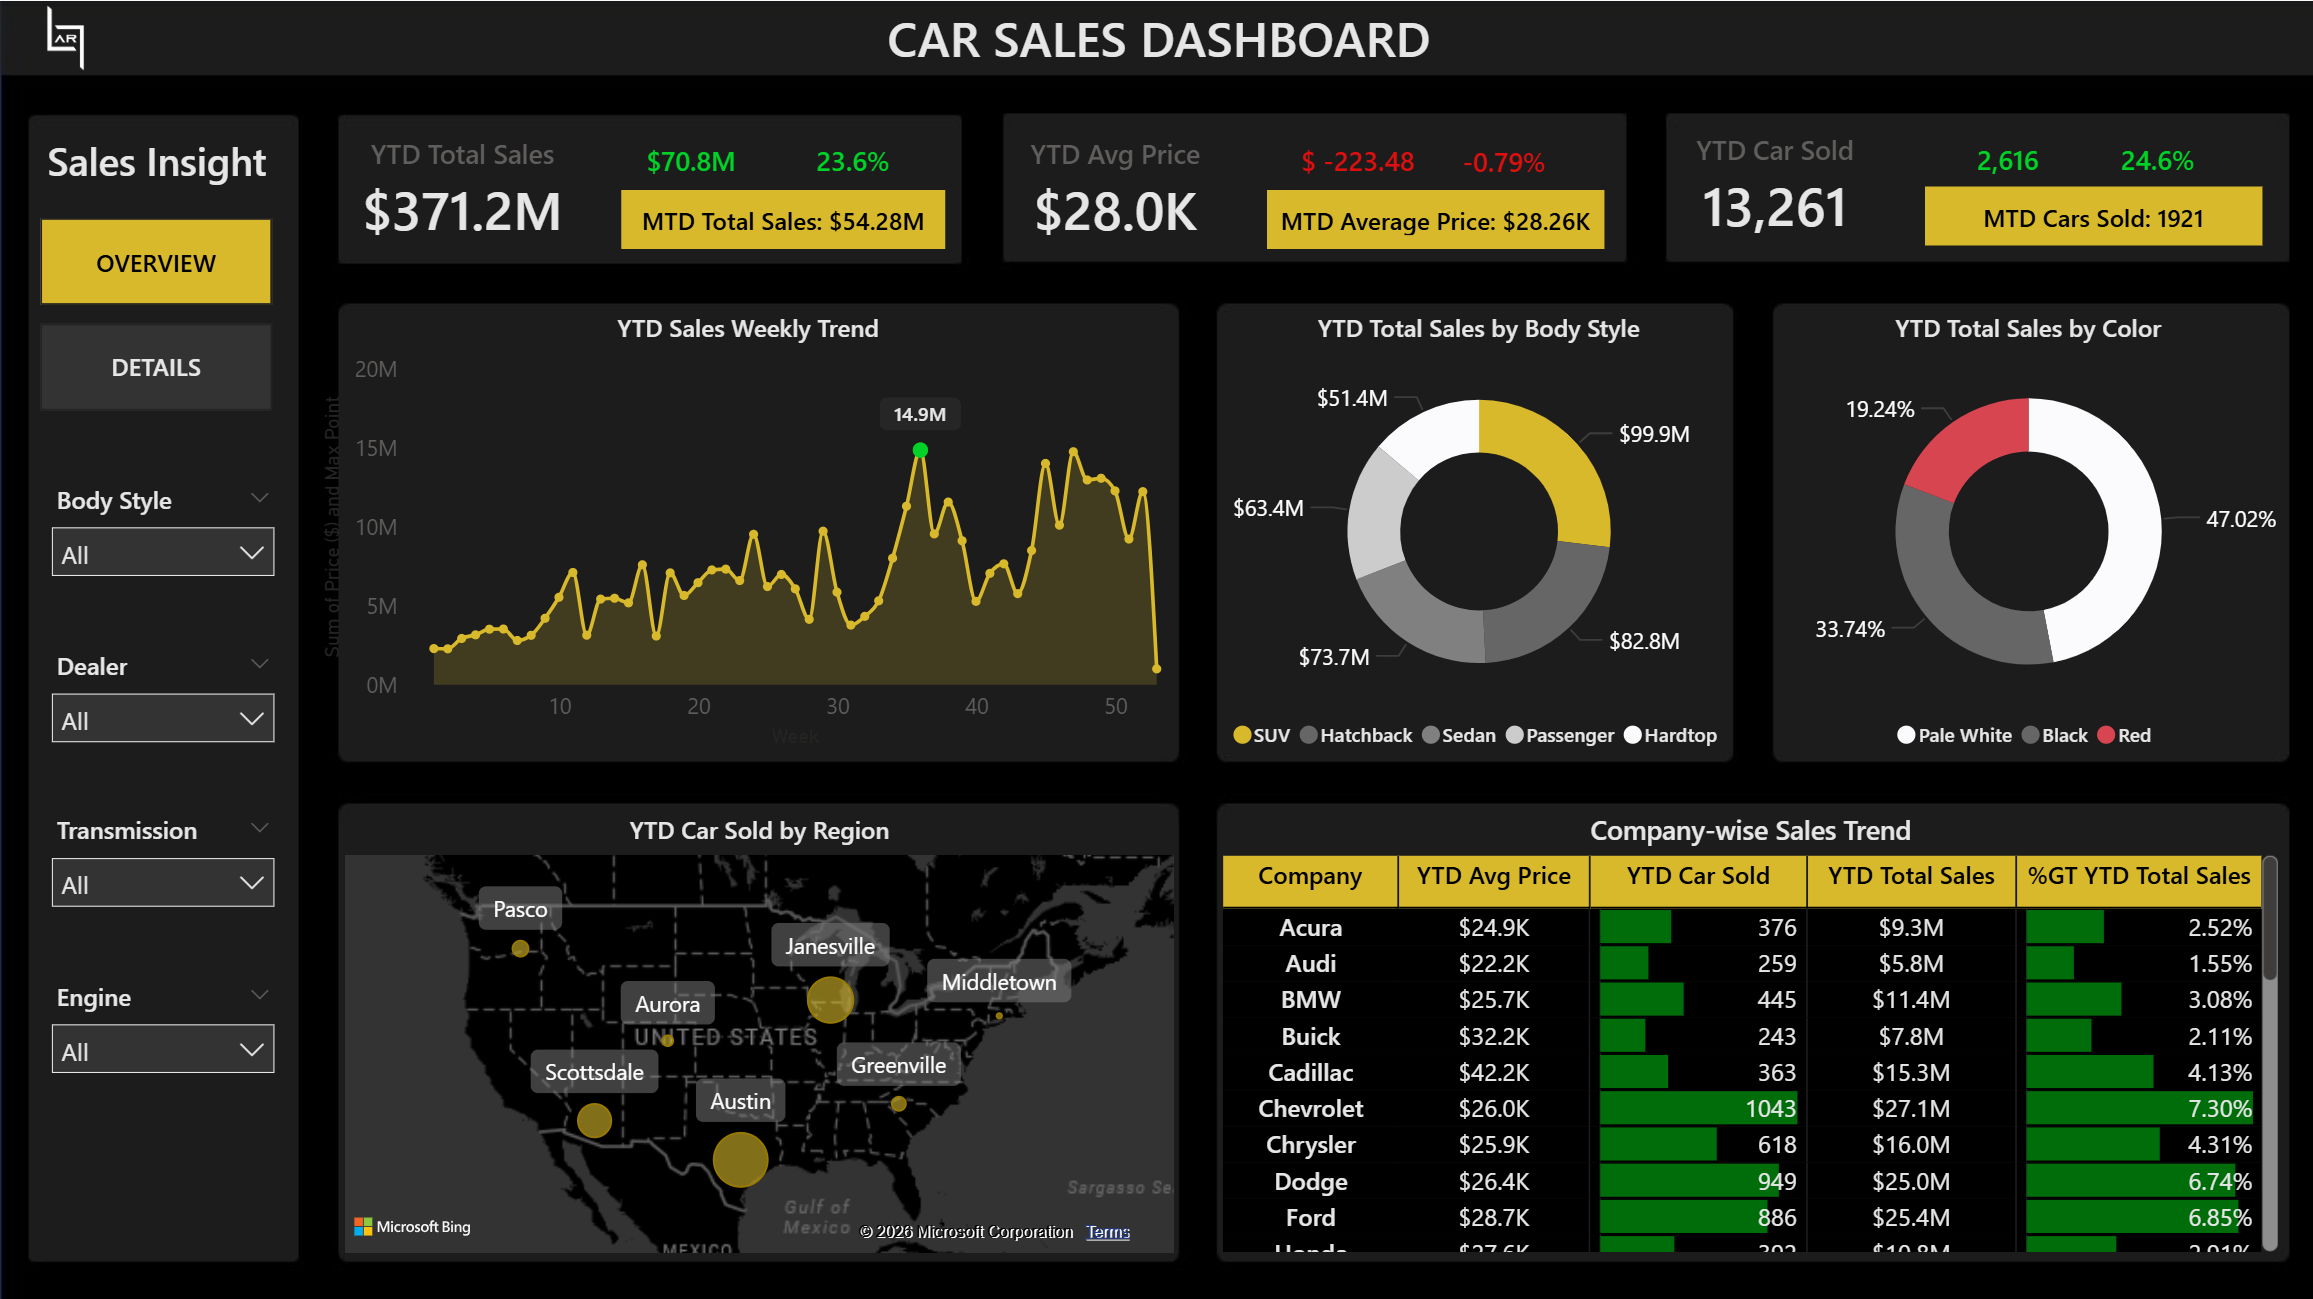

The page's visual inventory and layout, read from the dashboard file:
{"tool":"powerbi","page":{"name":"OVERVIEW","canvas":[1280,720],"ordinal":0},"visuals":[{"type":"cardVisual","fields":{"Data":["car_data.YTD Total Sales"]},"box":[176.6,62.2,158,84.6],"z":0},{"type":"cardVisual","fields":{"Data":["car_data.Sales Difference"]},"box":[344,66.7,75.3,40],"z":1000},{"type":"cardVisual","fields":{"Data":["car_data.YoY Sales Growth"]},"box":[432.7,66.7,76,40],"z":2000},{"type":"cardVisual","fields":{"Data":["car_data.YTD Avg Sales"]},"box":[537.3,62.2,158,84.6],"z":3000},{"type":"cardVisual","fields":{"Data":["car_data.MTD KPI"]},"box":[343.3,104.5,179.1,32.3],"z":4000},{"type":"cardVisual","fields":{"Data":["car_data.Avg Price Diff"]},"box":[696.5,69,106.7,36.1],"z":5000},{"type":"cardVisual","fields":{"Data":["car_data.MTD Avg Price KPI"]},"box":[699,104.5,186.6,32.3],"z":6000},{"type":"cardVisual","fields":{"Data":["car_data.YoY Avg Price Growth"]},"box":[792,69.1,76,35.3],"z":7000},{"type":"areaChart","title":"YTD Sales Weekly Trend","fields":{"Y":["Sum(car_data.Price ($))","car_data.Max Point"],"Category":["Calander Table.Week"]},"box":[176.6,170.4,472.6,243.8],"z":8000},{"type":"donutChart","fields":{"Category":["car_data.Body Style"],"Y":["car_data.YTD Total Sales"]},"box":[672.9,170.4,288,250],"z":9000},{"type":"donutChart","fields":{"Y":["car_data.YTD Total Sales"],"Category":["car_data.Color"]},"box":[967.6,170.4,303.5,250],"z":10000},{"type":"map","title":"YTD Car Sold by Region","fields":{"Category":["car_data.Dealer_Region"],"Size":["car_data.YTD Car Sold"]},"box":[189,447.8,460,245],"z":11000},{"type":"pivotTable","title":"Company-wise Sales Trend","fields":{"Rows":["car_data.Company"],"Values":["car_data.YTD Avg Price","car_data.YTD Car Sold","car_data.YTD Total Sales","Divide(car_data.YTD Total Sales, ScopedEval(car_data.YTD Total Sales, []))"]},"box":[672.9,447.8,588.3,245],"z":12000},{"type":"textbox","box":[411.8,0,456.5,47.3],"z":13000},{"type":"slicer","fields":{"Values":["car_data.Body Style"]},"box":[18.6,261.2,143,77.1],"z":14000},{"type":"slicer","fields":{"Values":["car_data.Dealer_Name"]},"box":[18.6,352.4,143,77.1],"z":15000},{"type":"slicer","fields":{"Values":["car_data.Transmission"]},"box":[18.6,443.6,143,77.1],"z":16000},{"type":"slicer","fields":{"Values":["car_data.Engine"]},"box":[18.6,534.8,143,77.1],"z":17000},{"type":"cardVisual","fields":{"Data":["car_data.YTD Car Sold"]},"box":[901.2,60.1,158,84.6],"z":18000},{"type":"cardVisual","fields":{"Data":["car_data.Car Sold Diff"]},"box":[1070.7,68.1,76,37.3],"z":19000},{"type":"cardVisual","fields":{"Data":["car_data.MTD Cars Sold KPI"]},"box":[1062.9,102.4,186.6,32.3],"z":20000},{"type":"cardVisual","fields":{"Data":["car_data.YoY Cars Sols Growth"]},"box":[1153,68.1,77.1,37.3],"z":21000},{"type":"textbox","box":[11.9,69,150,42.5],"z":22000},{"type":"pageNavigator","box":[22.4,119.4,128.1,107],"z":23000},{"type":"image","box":[0,0,72.5,40.6],"z":24000}]}

Visuals, with their boxes in screenshot pixels (x1, y1, x2, y2), scaled from the page's 1280x720 canvas onto the 2313x1299 screenshot:
cardVisual - car_data.YTD Total Sales: 319,112,605,265
cardVisual - car_data.Sales Difference: 622,120,758,193
cardVisual - car_data.YoY Sales Growth: 782,120,919,193
cardVisual - car_data.YTD Avg Sales: 971,112,1256,265
cardVisual - car_data.MTD KPI: 620,189,944,247
cardVisual - car_data.Avg Price Diff: 1259,124,1451,190
cardVisual - car_data.MTD Avg Price KPI: 1263,189,1600,247
cardVisual - car_data.YoY Avg Price Growth: 1431,125,1569,188
"YTD Sales Weekly Trend" areaChart: 319,307,1173,747
donutChart - car_data.Body Style x car_data.YTD Total Sales: 1216,307,1736,758
donutChart - car_data.YTD Total Sales x car_data.Color: 1748,307,2297,758
"YTD Car Sold by Region" map: 342,808,1173,1250
"Company-wise Sales Trend" pivotTable: 1216,808,2279,1250
textbox: 744,0,1569,85
slicer - car_data.Body Style: 34,471,292,610
slicer - car_data.Dealer_Name: 34,636,292,775
slicer - car_data.Transmission: 34,800,292,939
slicer - car_data.Engine: 34,965,292,1104
cardVisual - car_data.YTD Car Sold: 1628,108,1914,261
cardVisual - car_data.Car Sold Diff: 1935,123,2072,190
cardVisual - car_data.MTD Cars Sold KPI: 1921,185,2258,243
cardVisual - car_data.YoY Cars Sols Growth: 2084,123,2223,190
textbox: 22,124,293,201
pageNavigator: 40,215,272,408
image: 0,0,131,73
